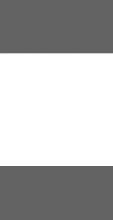bottle: (0, 68, 113, 132)
